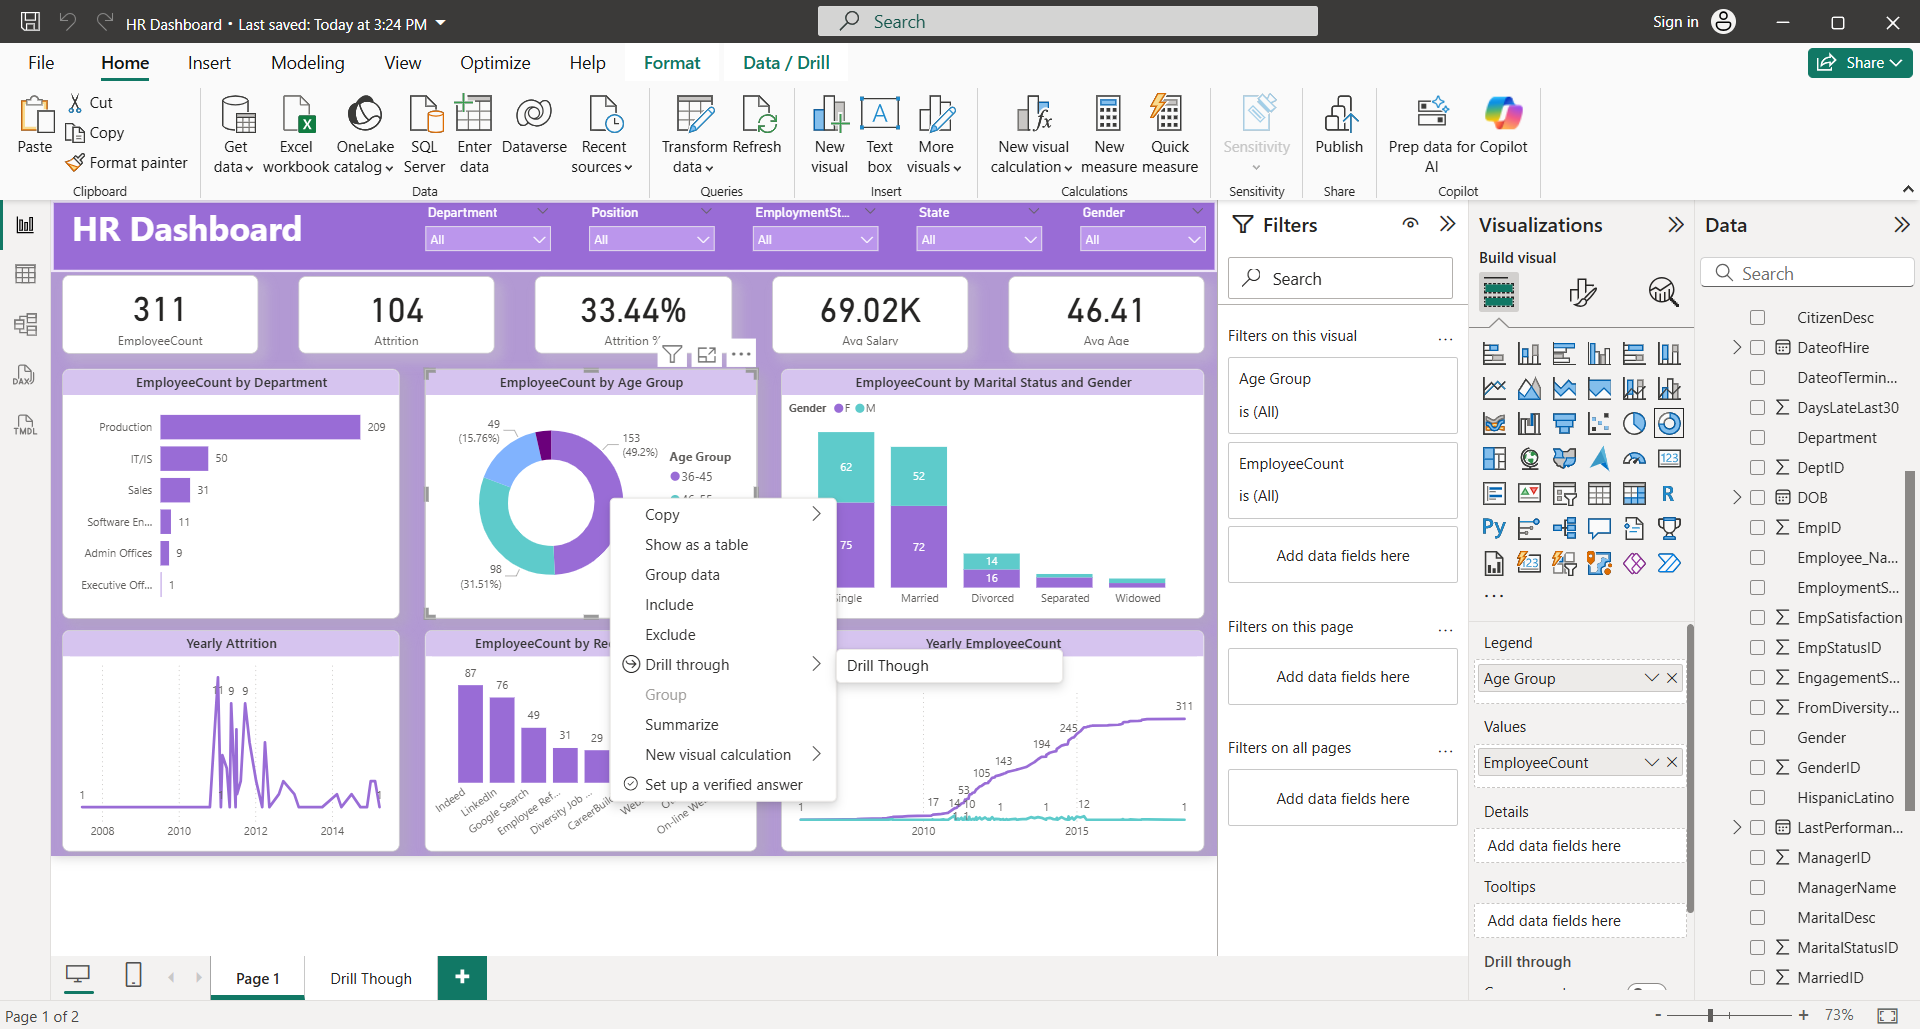

The dashboard page shown, as its layout file describes it:
{"tool":"powerbi","page":{"name":"HR","canvas":[1280,720],"ordinal":0},"visuals":[{"type":"shape","box":[0,0,1280.3,79.6],"z":0},{"type":"card","fields":{"Values":["Measure.EmployeeCount"]},"box":[12.3,82.3,215.4,86.4],"z":1000},{"type":"card","fields":{"Values":["Measure.Attrition"]},"box":[271.7,83.7,215.4,85.1],"z":2000},{"type":"card","fields":{"Values":["Measure.Attrition %"]},"box":[531,83.7,216.8,85.1],"z":3000},{"type":"card","fields":{"Values":["Measure.Avg Salary"]},"box":[791.8,83.7,215.4,85.1],"z":4000},{"type":"card","fields":{"Values":["Measure.Avg Age"]},"box":[1051.1,83.7,215.4,85.1],"z":5000},{"type":"clusteredBarChart","fields":{"Y":["Measure.EmployeeCount"],"Category":["HRDataset_v14.Department"]},"box":[12.3,185.2,370.5,274.4],"z":6000},{"type":"donutChart","fields":{"Category":["HRDataset_v14.Age Group"],"Y":["Measure.EmployeeCount"]},"box":[409.6,185.2,365,274.4],"z":7000},{"type":"columnChart","title":"EmployeeCount by Marital Status and Gender","fields":{"Category":["HRDataset_v14.MaritalDesc"],"Y":["Measure.EmployeeCount"],"Series":["HRDataset_v14.Gender"]},"box":[801.4,185.2,465.2,274.4],"z":8000},{"type":"lineChart","title":"Yearly EmployeeCount","fields":{"Category":["HRDataset_v14.DateofHire"],"Y":["Measure.Cummulative EmployeeCount","Measure.EmployeeCount"]},"box":[801.4,472,465.2,242.9],"z":9000},{"type":"lineChart","title":"Yearly Attrition","fields":{"Category":["HRDataset_v14.DateofHire"],"Y":["Measure.Attrition"]},"box":[12.3,472,370.5,242.9],"z":10000},{"type":"columnChart","fields":{"Y":["Measure.EmployeeCount"],"Category":["HRDataset_v14.RecruitmentSource"]},"box":[410.3,472,365,242.9],"z":11000},{"type":"slicer","fields":{"Values":["HRDataset_v14.Gender"]},"box":[1120.3,0,158,68],"z":12000},{"type":"slicer","fields":{"Values":["HRDataset_v14.Position"]},"box":[581,0,158,68],"z":13000},{"type":"slicer","fields":{"Values":["HRDataset_v14.EmploymentStatus"]},"box":[760.8,0,158,68],"z":14000},{"type":"slicer","fields":{"Values":["HRDataset_v14.State"]},"box":[940.5,0,158,68],"z":15000},{"type":"slicer","fields":{"Values":["HRDataset_v14.Department"]},"box":[401.2,0,158,68],"z":16000},{"type":"textbox","box":[0,0,299.1,79.6],"z":16001}]}

Visuals, with their boxes on the page's 1280x720 design canvas (x1, y1, x2, y2). These are canvas units, not pixel positions in the 1920x1029 screenshot, which may show the page scaled, cropped or inside an application window:
shape: region(0, 0, 1280, 80)
card - Measure.EmployeeCount: region(12, 82, 228, 169)
card - Measure.Attrition: region(272, 84, 487, 169)
card - Measure.Attrition %: region(531, 84, 748, 169)
card - Measure.Avg Salary: region(792, 84, 1007, 169)
card - Measure.Avg Age: region(1051, 84, 1266, 169)
clusteredBarChart - Measure.EmployeeCount x HRDataset_v14.Department: region(12, 185, 383, 460)
donutChart - HRDataset_v14.Age Group x Measure.EmployeeCount: region(410, 185, 775, 460)
"EmployeeCount by Marital Status and Gender" columnChart: region(801, 185, 1267, 460)
"Yearly EmployeeCount" lineChart: region(801, 472, 1267, 715)
"Yearly Attrition" lineChart: region(12, 472, 383, 715)
columnChart - Measure.EmployeeCount x HRDataset_v14.RecruitmentSource: region(410, 472, 775, 715)
slicer - HRDataset_v14.Gender: region(1120, 0, 1278, 68)
slicer - HRDataset_v14.Position: region(581, 0, 739, 68)
slicer - HRDataset_v14.EmploymentStatus: region(761, 0, 919, 68)
slicer - HRDataset_v14.State: region(940, 0, 1098, 68)
slicer - HRDataset_v14.Department: region(401, 0, 559, 68)
textbox: region(0, 0, 299, 80)
